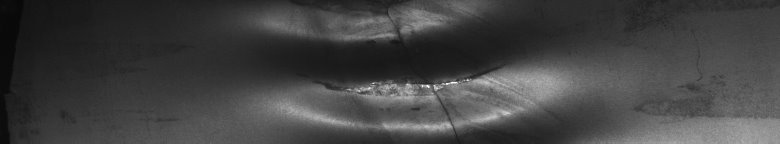ke: (266, 4, 526, 136)
